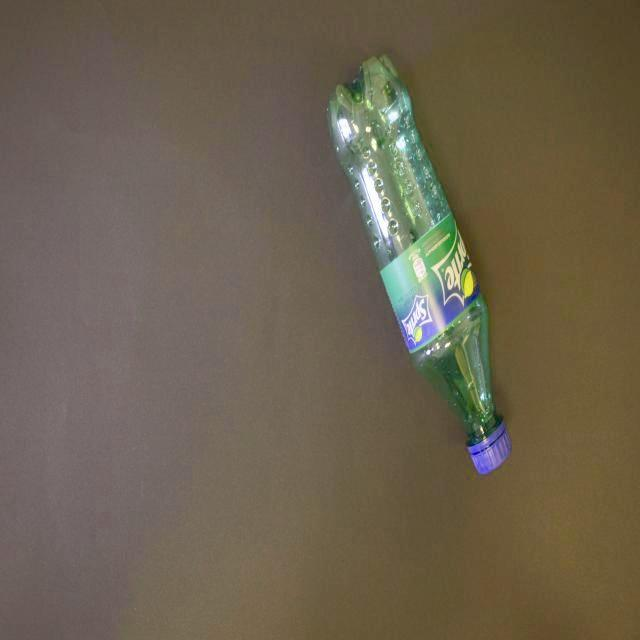bottle: (327, 54, 512, 474)
